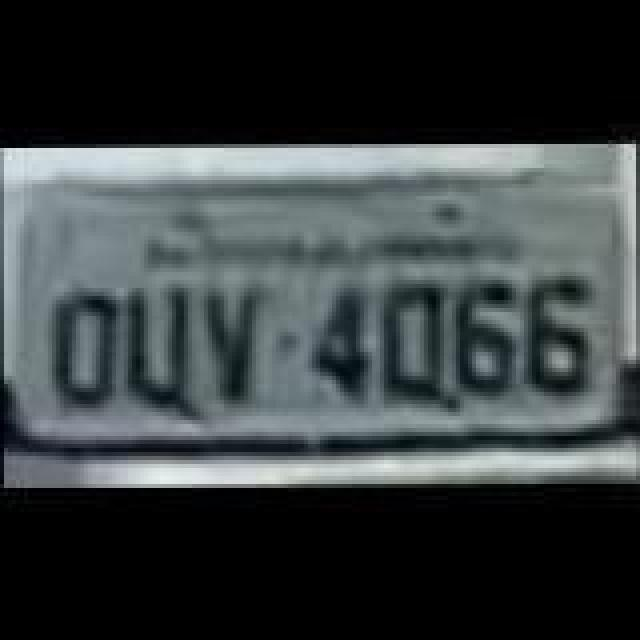4: (304, 282, 372, 402)
6: (446, 280, 526, 404), (528, 272, 596, 400)
O: (52, 288, 120, 408), (386, 278, 450, 398)
U: (114, 290, 194, 414)
V: (202, 282, 266, 410)
